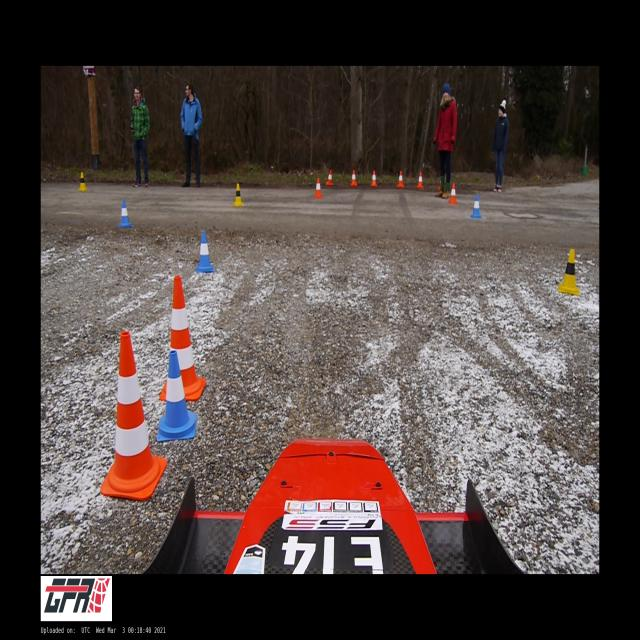blue_cone: (156, 350, 197, 442), (196, 232, 214, 272), (118, 200, 133, 228), (470, 194, 482, 218)
large_orange_cone: (100, 331, 172, 499), (159, 276, 206, 402)
orange_cone: (449, 183, 457, 204), (314, 178, 322, 198), (350, 169, 358, 188), (416, 172, 424, 190), (397, 170, 404, 189), (326, 170, 333, 187), (371, 170, 377, 188)
yellow_cone: (559, 249, 580, 296), (232, 183, 245, 206), (78, 172, 88, 192)
